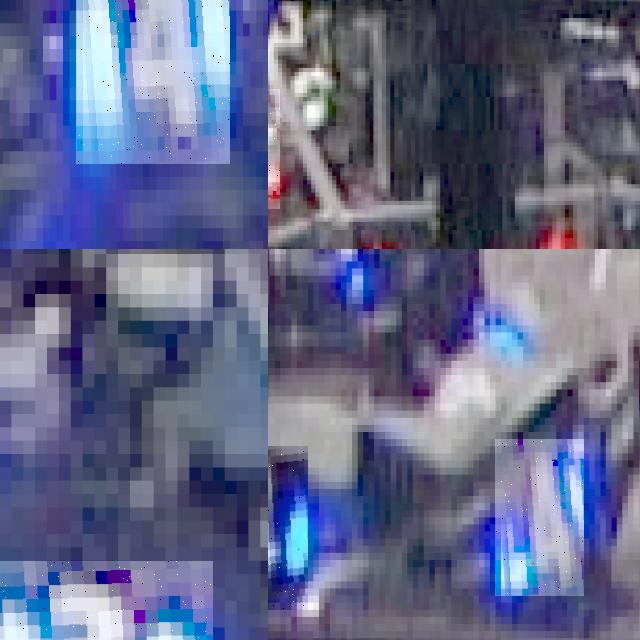B3: (0, 560, 212, 640)
B4: (76, 0, 229, 164), (495, 439, 584, 596), (268, 446, 308, 609)
